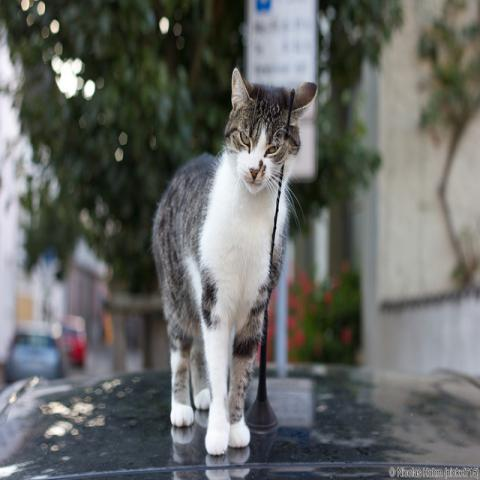car: (0, 299, 479, 479), (5, 323, 59, 374)
